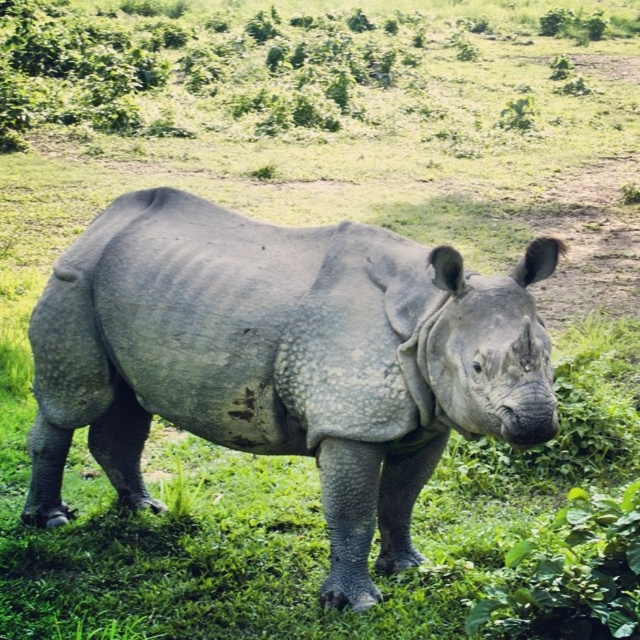Rhinoceros: (16, 186, 572, 616)
